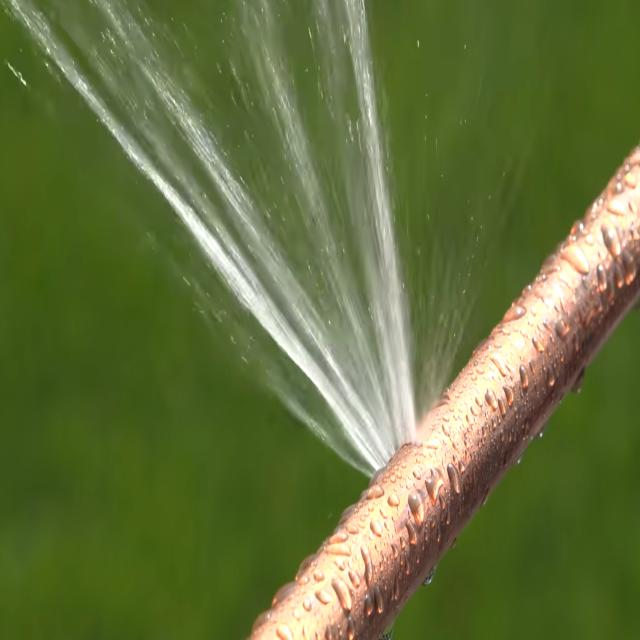leak: (6, 0, 416, 471)
